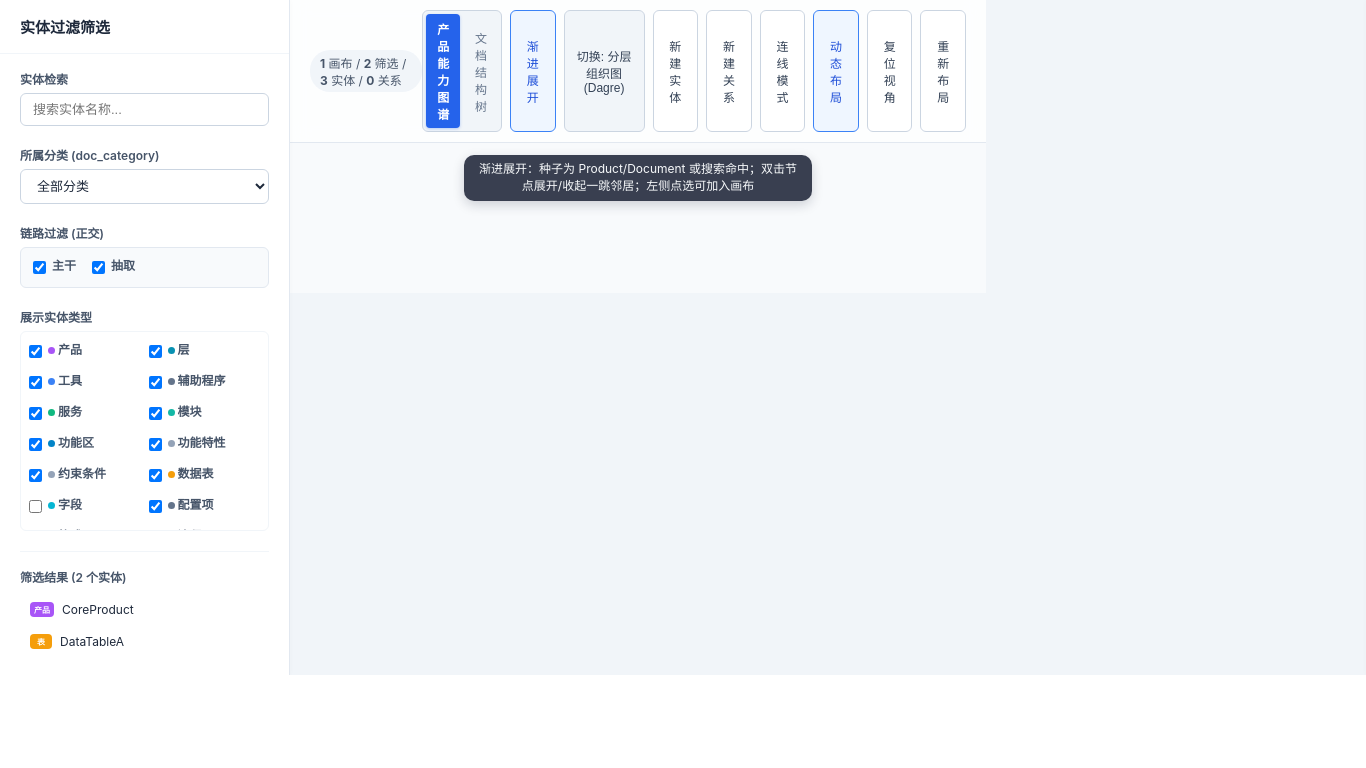
KnowledgeGraphView › filters nodes orthogonally using link classes in document mode (Structure / Extraction / Association)
This screenshot has width=1366, height=768.
切换到文档图谱模式
Click the button with test id "mode-document-top" at (481, 71), box [464,14,498,128]
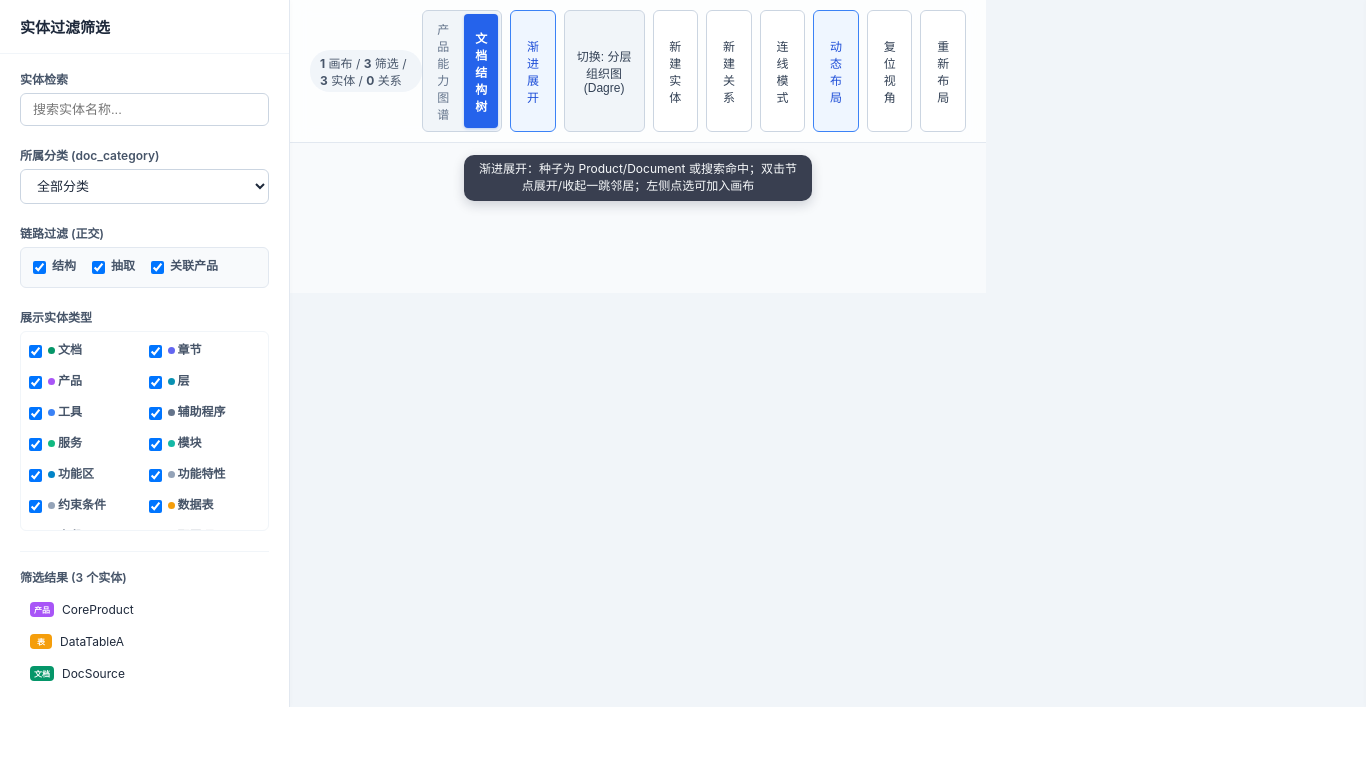
expect the text "CoreProduct" is shown: met, box [62,602,134,617]
expect the text "DocSource" is shown: met, box [62,666,125,681]
Uncheck "抽取" (Extraction) filter
Click the checkbox with test id "link-class-extraction-doc" at (98, 268), box [92,261,105,274]
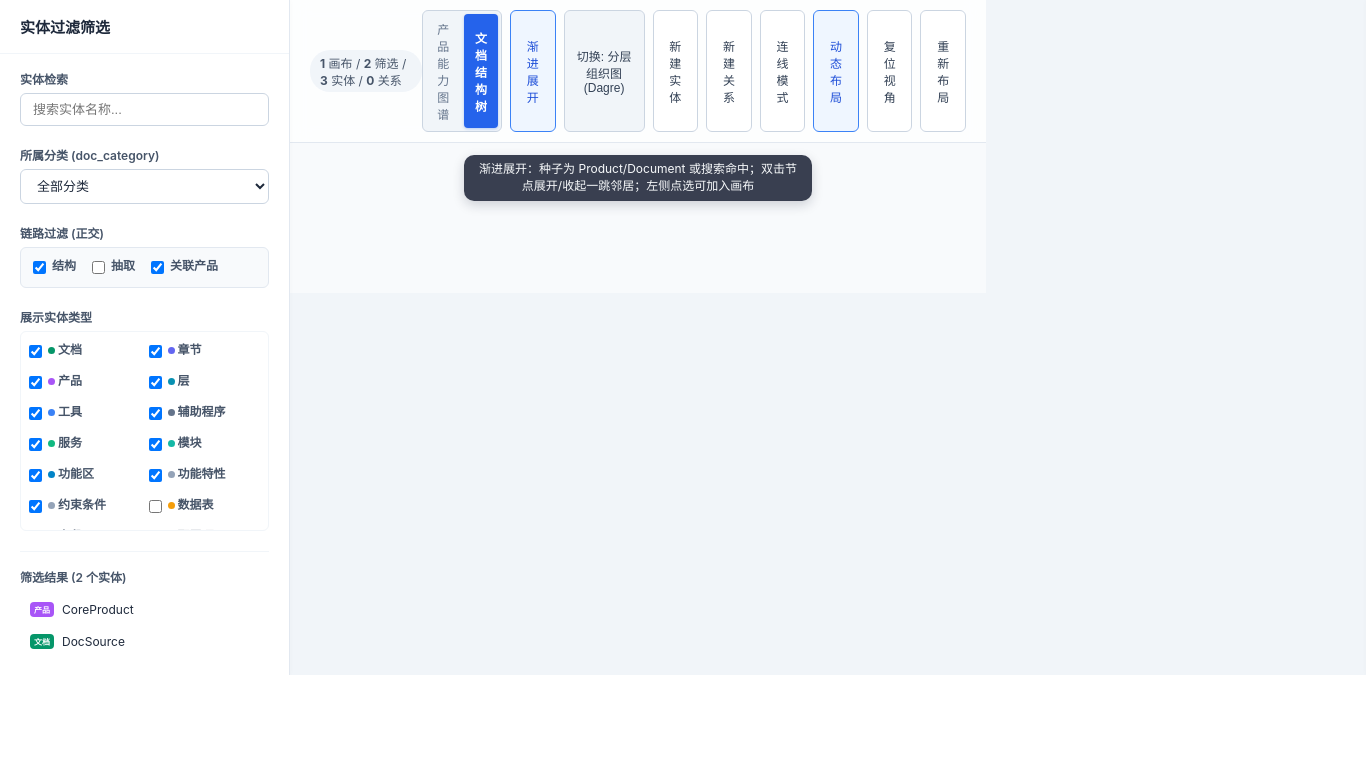
expect the text "CoreProduct" is shown: met, box [62,602,134,617]
expect the text "DocSource" is shown: met, box [62,634,125,649]
expect the text "DataTableA" is gone: met
Uncheck "关联产品" (Association) filter
Click the checkbox with test id "link-class-association" at (158, 268), box [151,261,164,274]
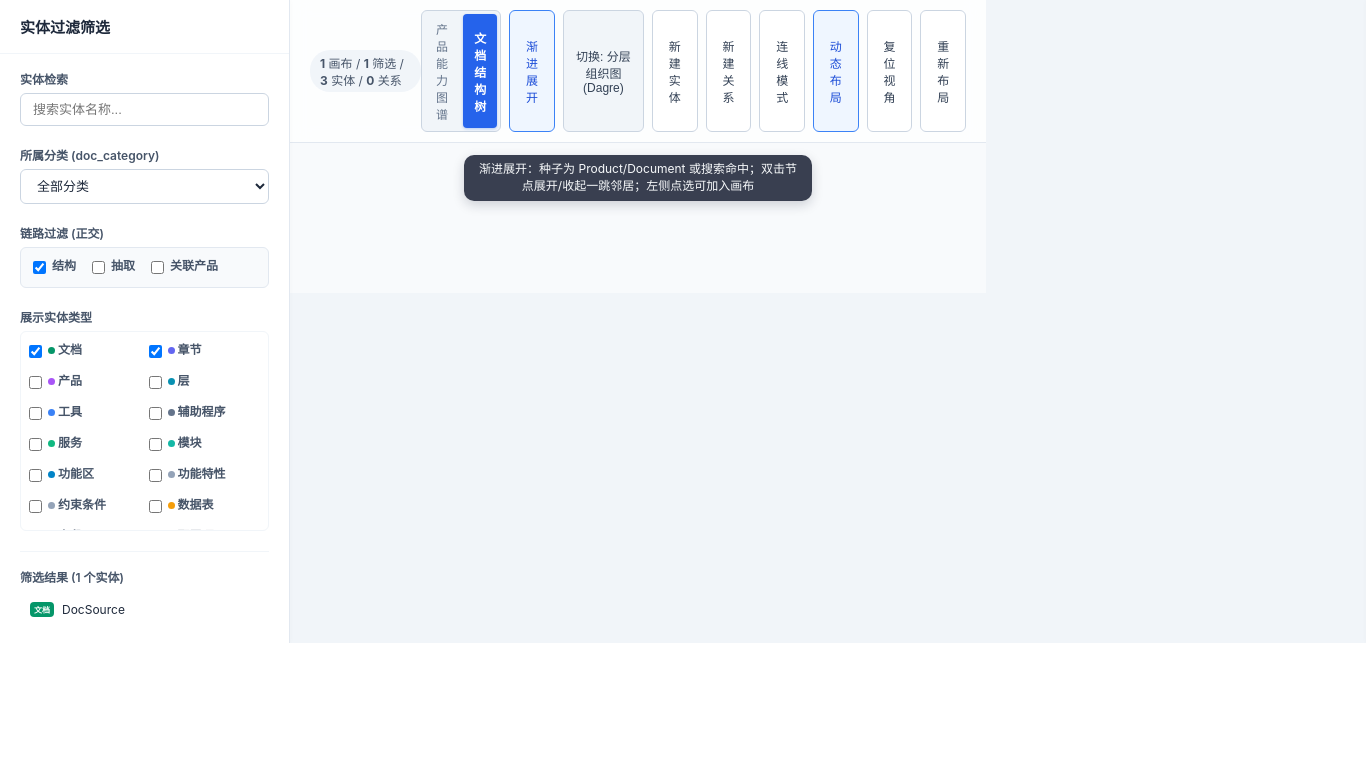
expect the text "DataTableA" is not shown: met
expect the text "DocSource" is shown: met, box [62,602,125,617]
expect the text "CoreProduct" is gone: met
Re-check "抽取" (Extraction) filter
Click the checkbox with test id "link-class-extraction-doc" at (98, 268), box [92,261,105,274]
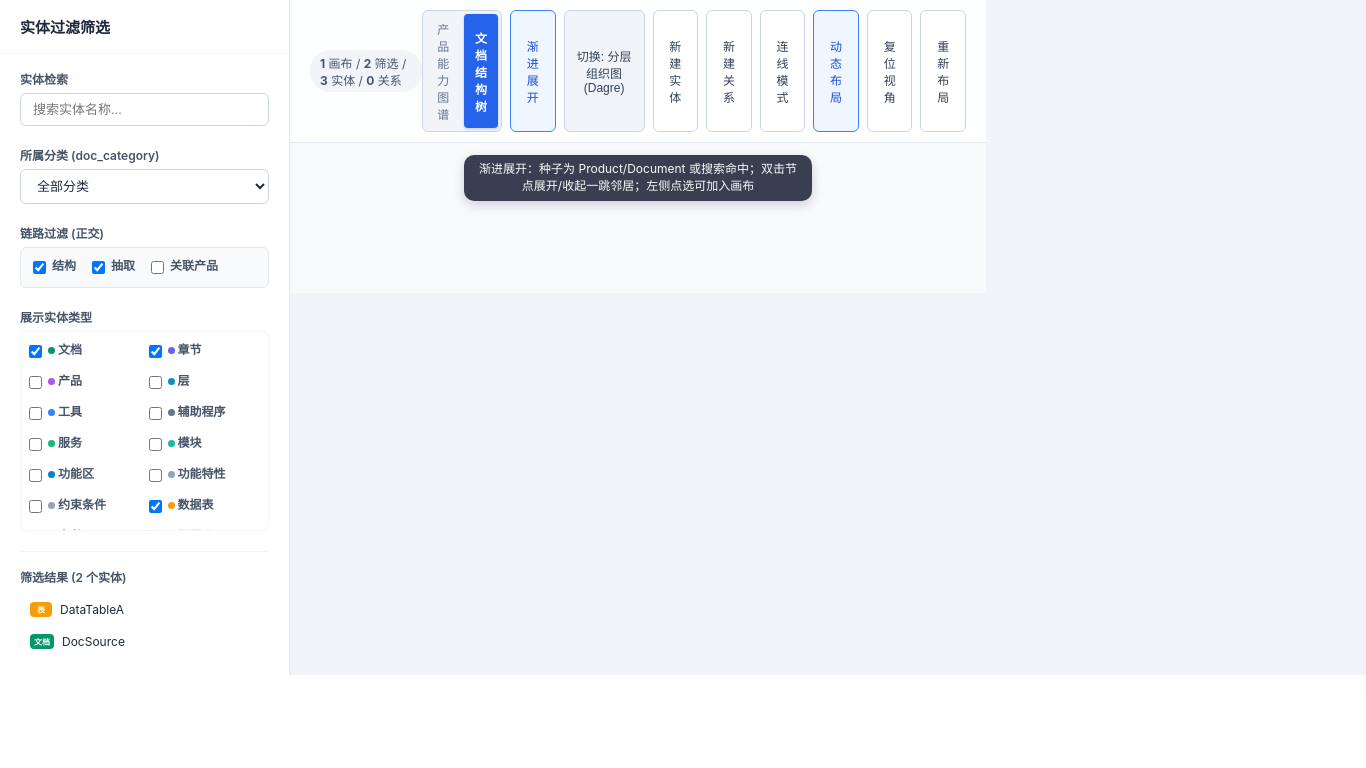
expect the text "CoreProduct" is not shown: met
expect the text "DocSource" is shown: met, box [62,634,125,649]
expect the text "DataTableA" is shown: met, box [60,602,124,617]
